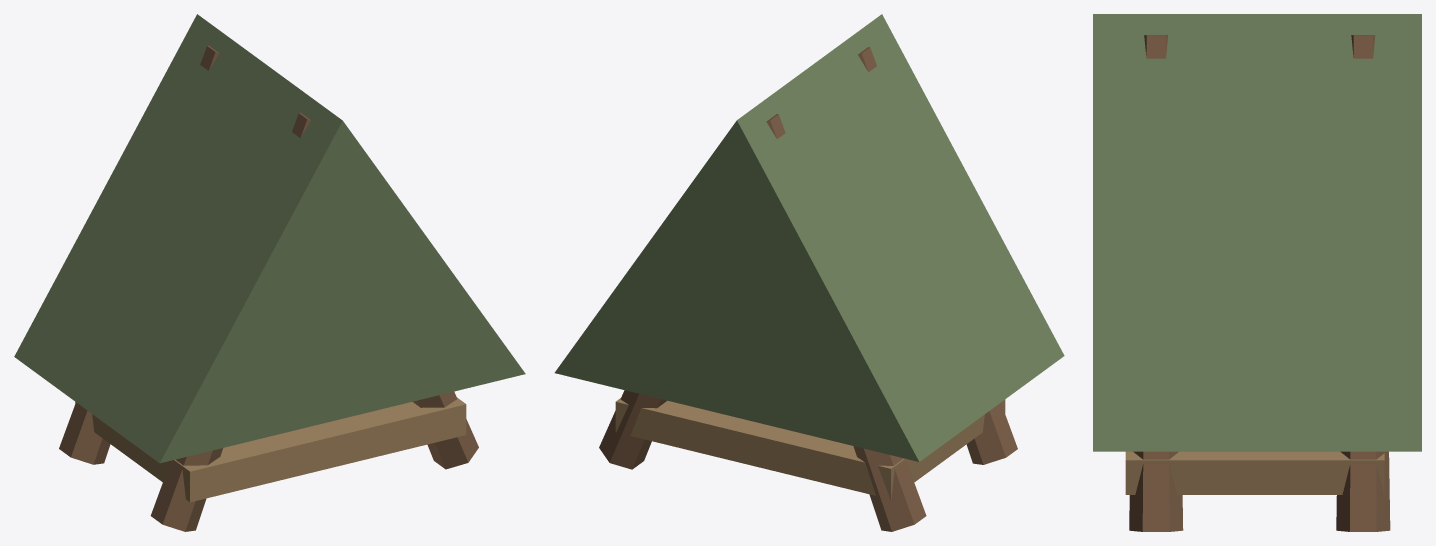
The model's file is map-exclusive-v3__ridge_01.glb.
The picture shows the model from 3 angles, left to right: view 1: azimuth 30°, elevation 25°; view 2: azimuth 150°, elevation 25°; view 3: azimuth 270°, elevation 25°; orthographic projection. The views are drawn at different scales.
Visible parts, largest first — view 1: ridge_01; view 2: ridge_01; view 3: ridge_01.
Boxes of the visible parts, left/top/right/bottom form: ridge_01: left=14, top=14, right=525, bottom=531; ridge_01: left=554, top=14, right=1064, bottom=531; ridge_01: left=1093, top=14, right=1421, bottom=531.
Size of the model in its own units: 2.12 by 2.19 by 1.46.
